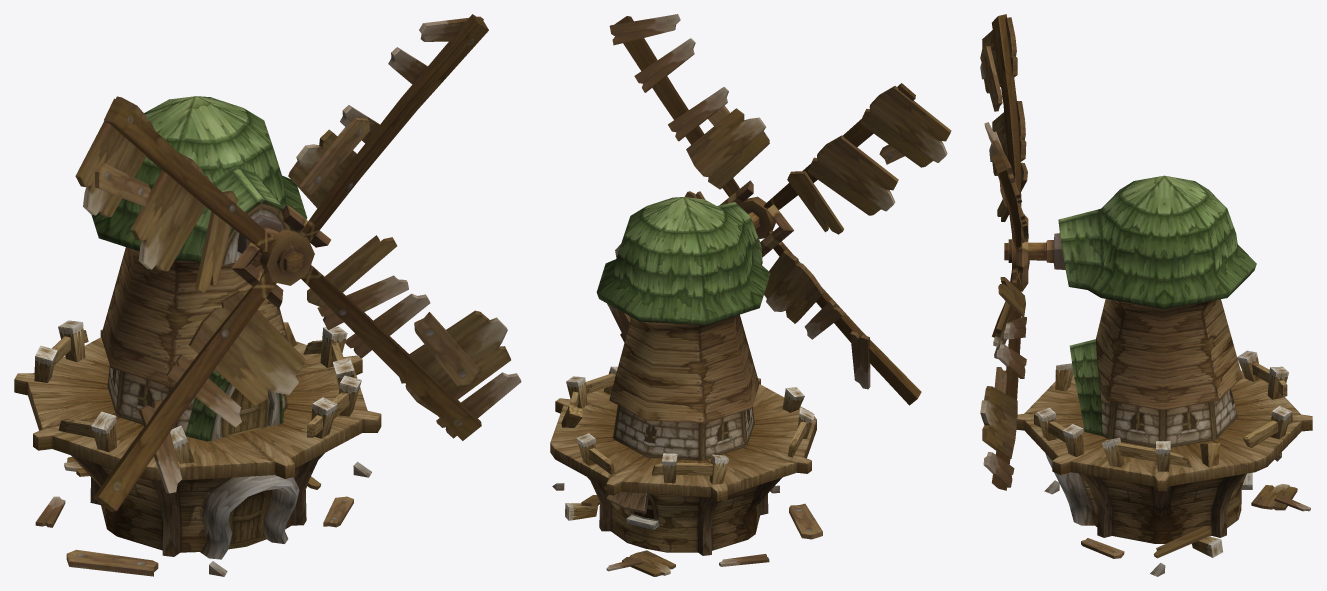
The model's file is Yegesl_jianzhu01.FBX.
3 renders of one model, left to right at view 1: azimuth 30°, elevation 25°; view 2: azimuth 150°, elevation 25°; view 3: azimuth 270°, elevation 25°, orthographic. The views are drawn at different scales.
Visible parts, largest first — view 1: Yegesl_jianzhu01; view 2: Yegesl_jianzhu01; view 3: Yegesl_jianzhu01.
Boxes of the visible parts, box(x1,y1,x2,y2) form: Yegesl_jianzhu01: box(14, 14, 521, 576); Yegesl_jianzhu01: box(550, 14, 951, 576); Yegesl_jianzhu01: box(980, 14, 1312, 576).
Size of the model in its own units: 83.83 by 67.32 by 97.38.
